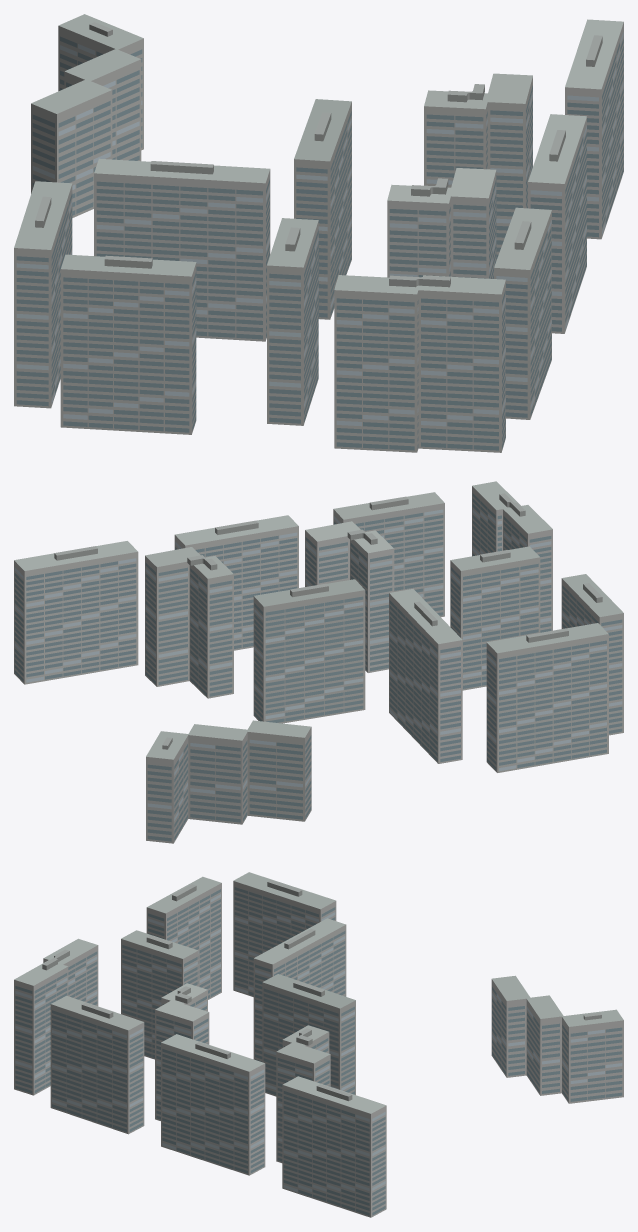
The model's file is apt-a14007002.glb.
3 views of the same model, one above another, from view 1: azimuth 30°, elevation 25°; view 2: azimuth 150°, elevation 25°; view 3: azimuth 270°, elevation 25° (orthographic). The views are drawn at different scales.
Visible parts, largest first — view 1: apt-a14007002; view 2: apt-a14007002; view 3: apt-a14007002.
Boxes of the visible parts, <box> form: apt-a14007002: <box>14,14,623,452</box>; apt-a14007002: <box>14,481,623,843</box>; apt-a14007002: <box>14,872,623,1217</box>.
Size of the model in its own units: 261 by 59 by 285.
